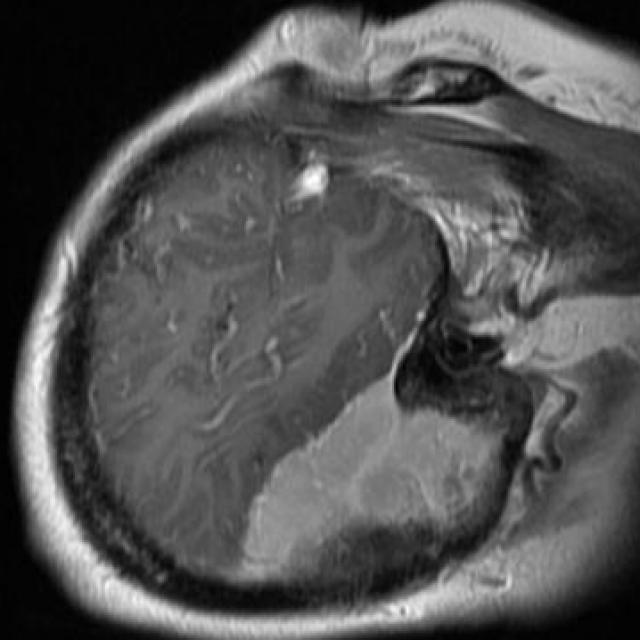meningioma: (239, 378, 496, 583)
